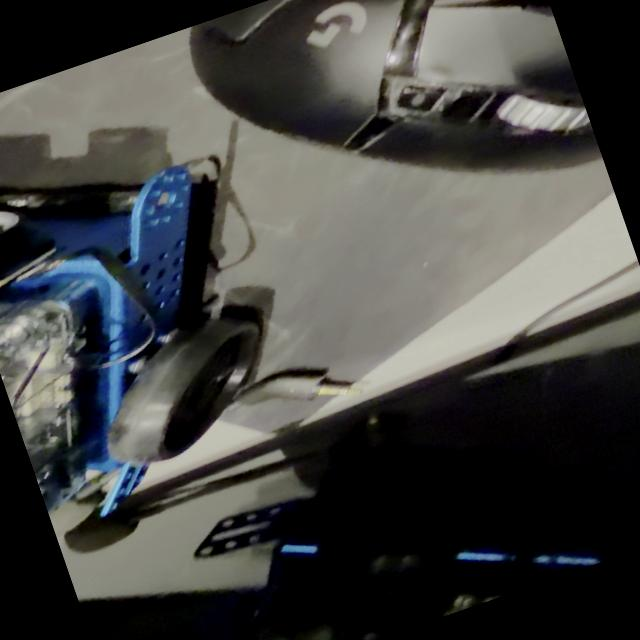mbot-detection: (0, 95, 315, 540)
